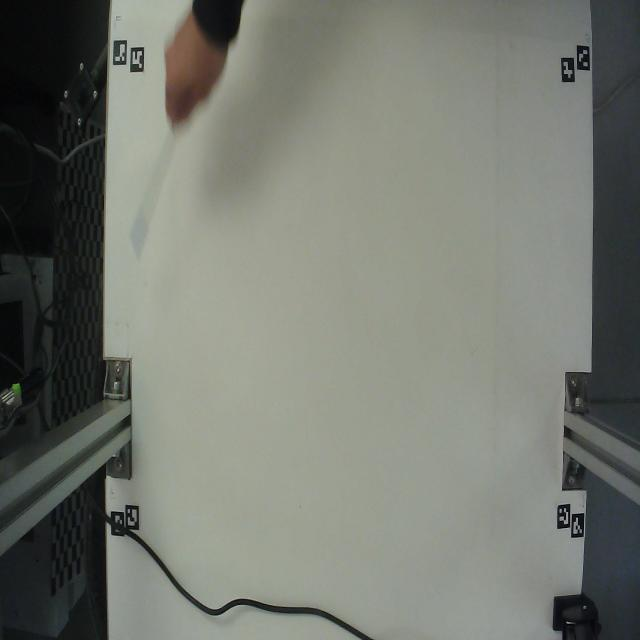NoPres: (123, 120, 188, 258)
